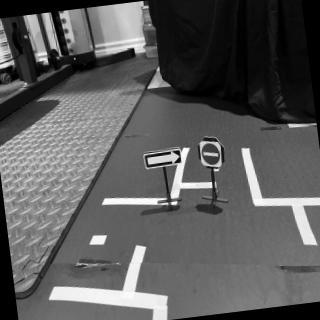sign_noentry: (199, 140, 224, 172)
sign_oneway_right: (144, 149, 185, 172)
